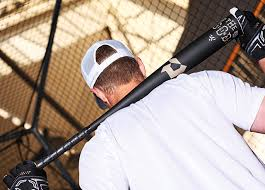baseball bat: (28, 8, 250, 173)
